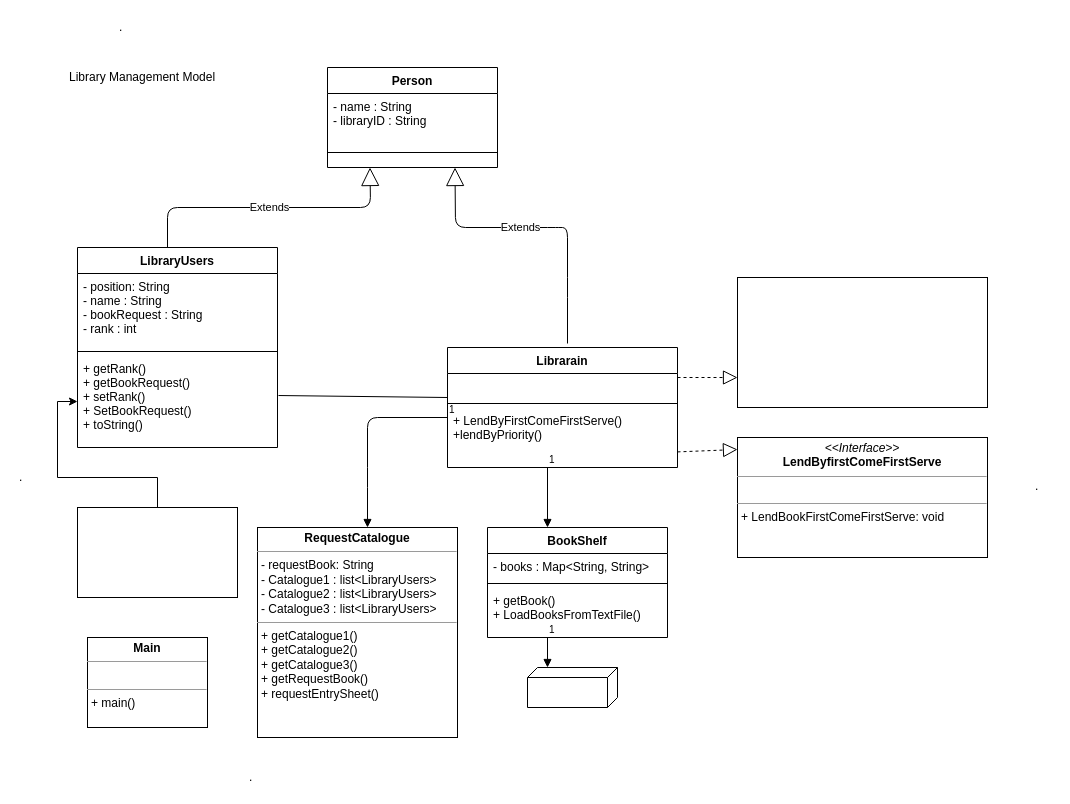
Image size: 1070x804. Some labels were removed from this diagram. The shapes that lost their labels are listed below. From the top down, each one's centre as x and y in pixels, then its label:
At (862,342): "<<Interface>> LendByPriority + LendBookFirstComeFirstServe: void".
At (157,552): "CompareUsers + compare()".
At (572,687): "books.txt".
